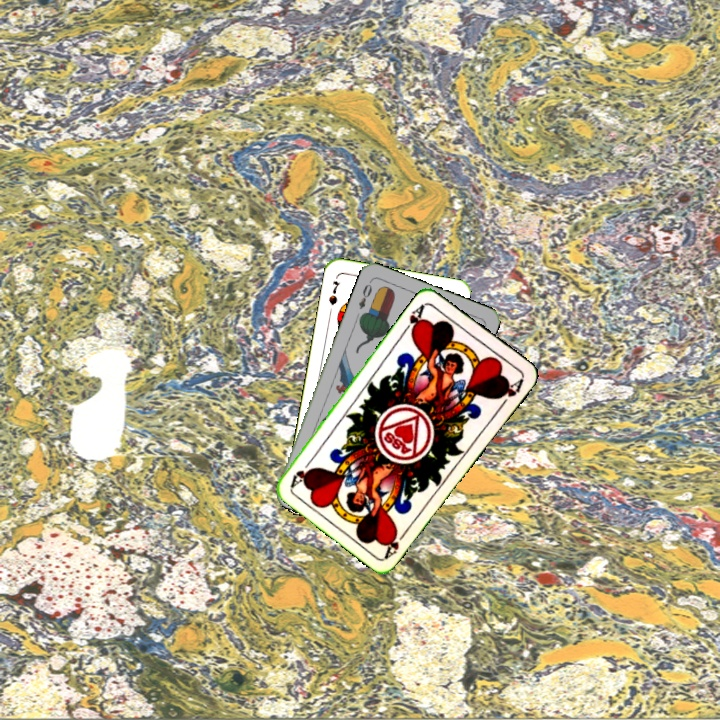EO: (354, 277, 375, 312)
HA: (399, 299, 428, 337), (381, 525, 411, 560)
S7: (325, 277, 342, 308)
